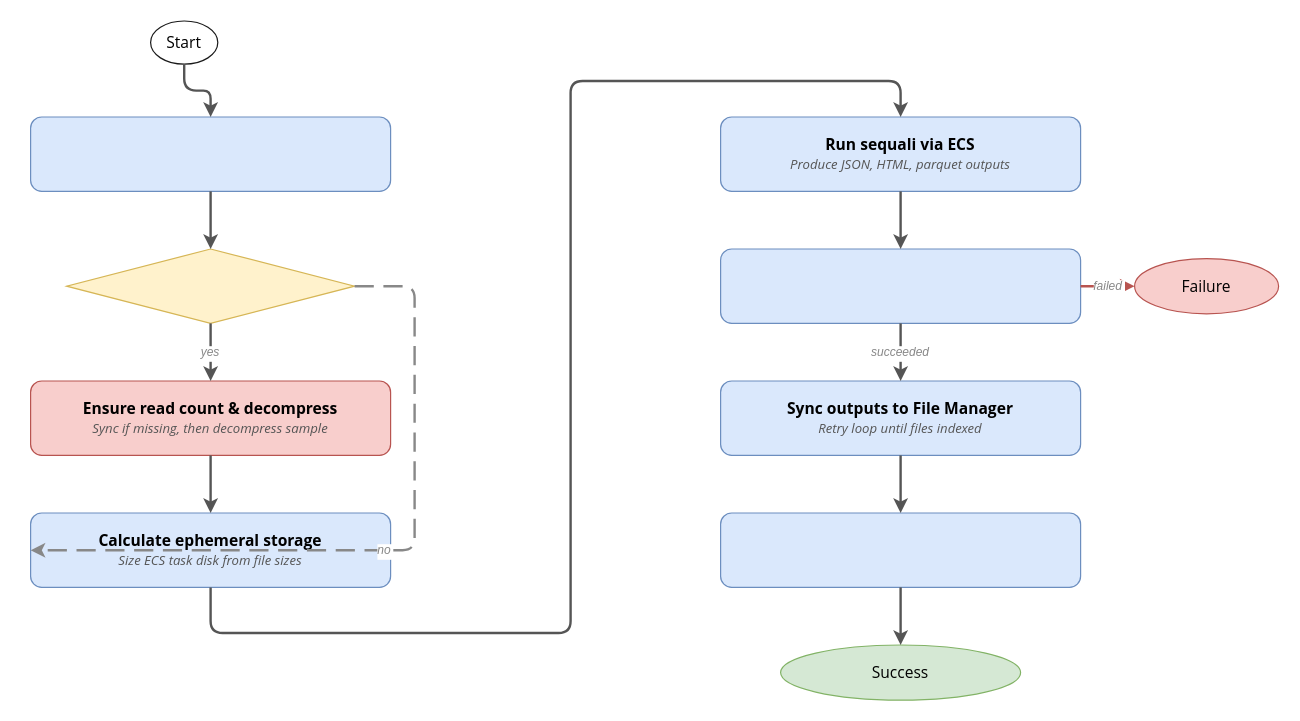
Image size: 1300x721. Some labels were removed from this diagram. The shapes that lost their labels are listed below. From the top down, each one's box as (x1, y1, x2, y2) in pixels, then its label:
(29, 116, 391, 191): Get FASTQ object Resolve S3 URIs from ingest IDs
(65, 248, 355, 323): ORA compressed?
(719, 248, 1081, 323): Update job status
(719, 512, 1081, 587): Update FASTQ record Persist QC data + report URIs
